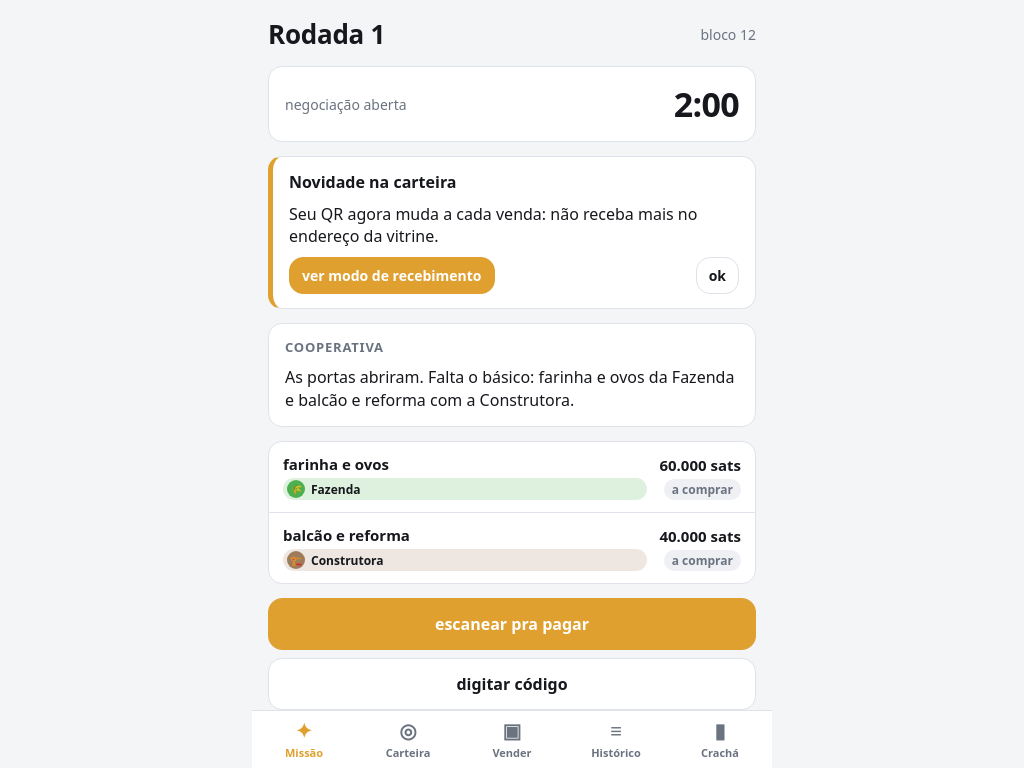
Test: an unlock event shows one novidade card leading to the setting
Expected: the heading "Rodada 1" is shown, [268,16,385,52]
Expected: the element with test id "novidade" shows "Seu QR agora muda a cada venda", [289,203,697,247]
Click the button "ver modo de recebimento".
click(392, 276)  # box [289,257,494,294]
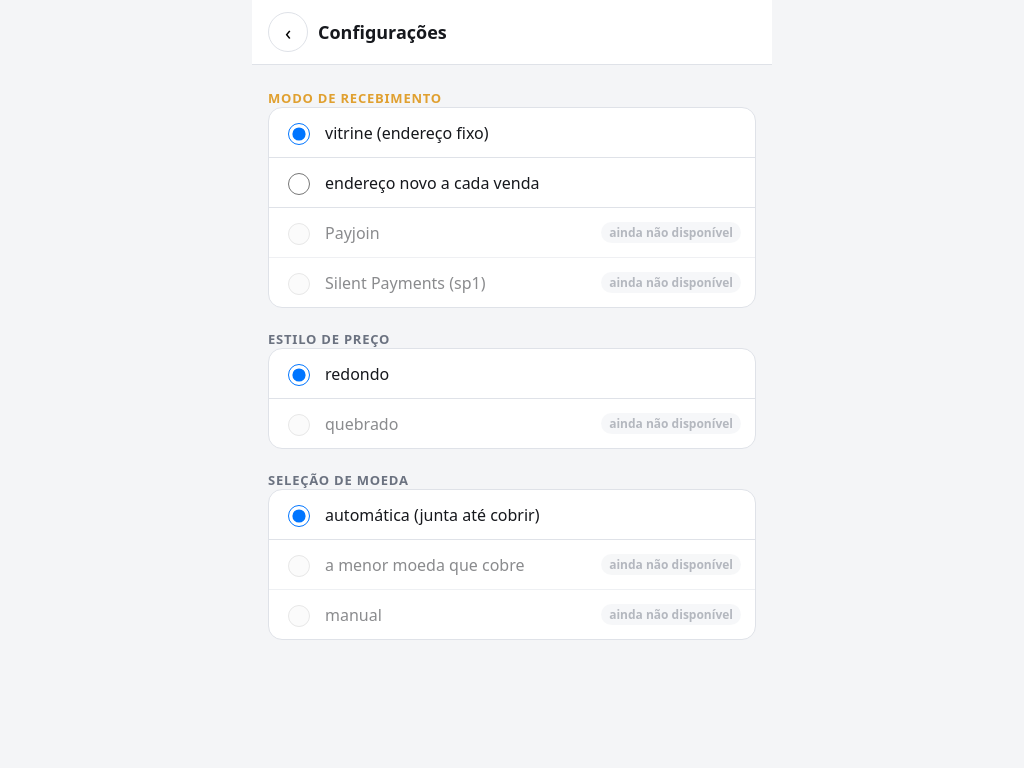
Expected: the dialog "Configurações" is shown, [252,0,772,767]
Expected: the radio button labelled "endereço novo a cada venda" is enabled, [288,173,310,195]
